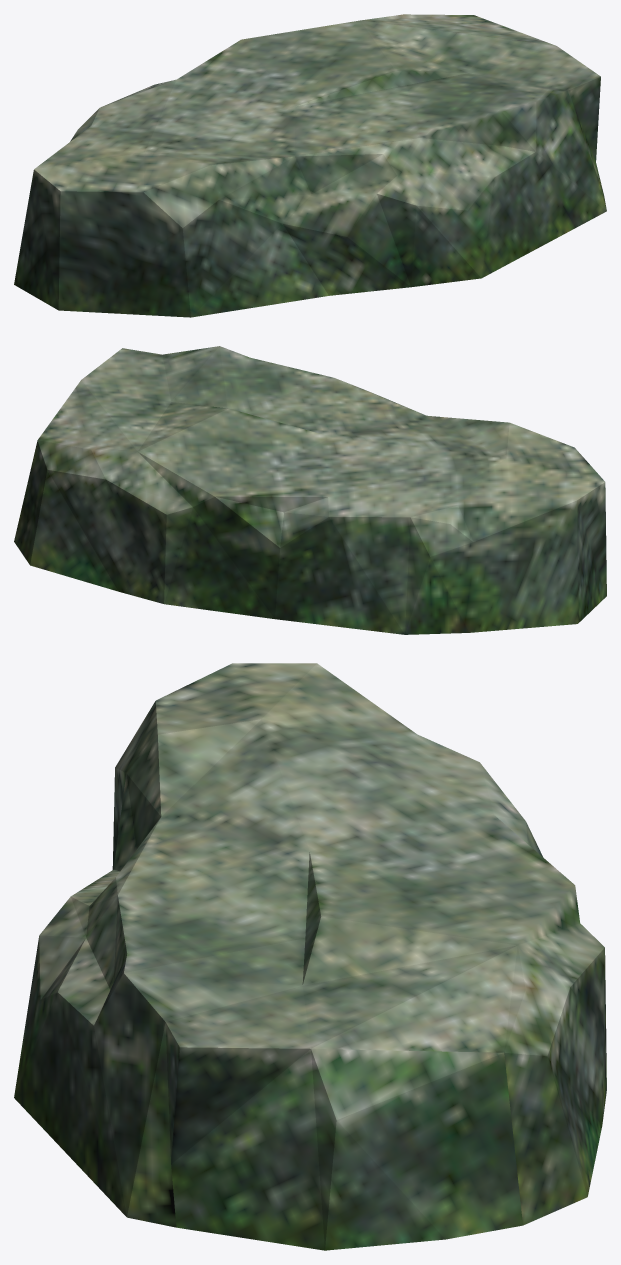
File: lianqizong_shitou05_st.FBX
3 views of the same model, one above another, from view 1: azimuth 30°, elevation 25°; view 2: azimuth 150°, elevation 25°; view 3: azimuth 270°, elevation 25° (orthographic). The views are drawn at different scales.
Visible parts, largest first — view 1: lianqizong_shitou05_st_A; view 2: lianqizong_shitou05_st_A; view 3: lianqizong_shitou05_st_A.
Part boxes in pixels (x1=…): lianqizong_shitou05_st_A: x1=14, y1=14, x2=606, y2=317; lianqizong_shitou05_st_A: x1=14, y1=346, x2=606, y2=634; lianqizong_shitou05_st_A: x1=14, y1=663, x2=606, y2=1250.
Bounding box in the file's own units: 336 × 75.4 × 203.
